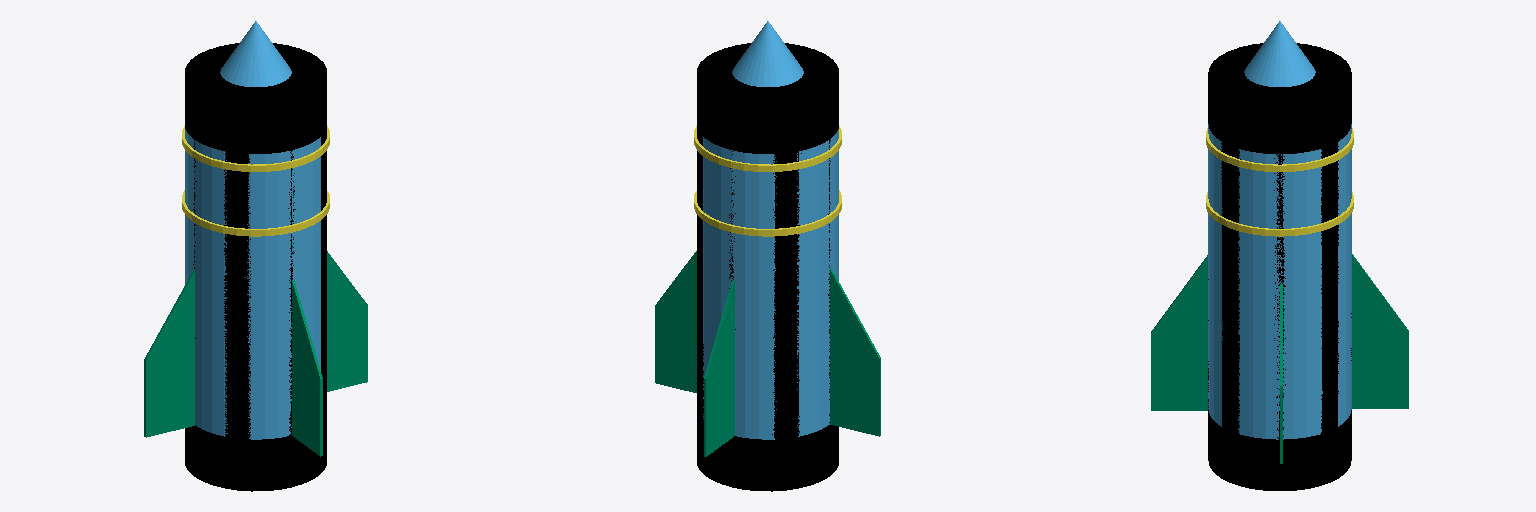
URDF robot description (rocket):
<?xml version="1.0"?>
<robot name="rocket">

  <material name="blue">
    <color rgba="0.175 0.277 0.906 1"/>
  </material>

  <link name="base_link">
    <inertial>
      <origin xyz="0 0 0" rpy="0 0 0"/>
      <mass value="20"/>
      <inertia ixx="16.25" ixy="0" ixz="0" iyy="16.25" iyz="0" izz="2.5"/>
    </inertial>

    <collision>
      <origin xyz="0 0 0" rpy="0 0 0"/>
      <geometry>
        <cylinder radius="0.5" length="3.0"/>
      </geometry>
    </collision>

    <visual>
      <origin xyz="0 0 0" rpy="0 0 0"/>
      <geometry>
        <cylinder radius="0.5" length="3.0"/>
      </geometry>
      <material name="invisible">
        <color rgba="0 0 0 0"/>
      </material>
    </visual>
  </link>

  <!-- Main Body -->
  <link name="main_body_visual">
    <inertial>
      <mass value="0.0001"/>
      <inertia ixx="0.000001" ixy="0" ixz="0" iyy="0.000001" iyz="0" izz="0.000001"/>
    </inertial>
    <visual>
      <origin xyz="0 0 0" rpy="0 0 0"/>
      <geometry>
        <mesh filename="rocket_main_body.obj" scale="1 1 1"/>
      </geometry>
    </visual>
  </link>

  <joint name="main_body_visual_joint" type="fixed">
    <origin xyz="0.0 0.0 0.0" rpy="0.0 0.0 0.0"/>
    <parent link="base_link"/>
    <child link="main_body_visual"/>
  </joint>

  <!-- Fins -->
  <link name="fins_visual">
    <inertial>
      <mass value="0.0001"/>
      <inertia ixx="0.000001" ixy="0" ixz="0" iyy="0.000001" iyz="0" izz="0.000001"/>
    </inertial>
    <visual>
      <origin xyz="0 0 0" rpy="0 0 0"/>
      <geometry>
        <mesh filename="rocket_fins.obj" scale="1 1 1"/>
      </geometry>
    </visual>
  </link>

  <joint name="fins_visual_joint" type="fixed">
    <origin xyz="0.0 0.0 0.0" rpy="0.0 0.0 0.0"/>
    <parent link="base_link"/>
    <child link="fins_visual"/>
  </joint>

  <!-- Nozzle -->
  <link name="nozzle_visual">
    <inertial>
      <mass value="0.0001"/>
      <inertia ixx="0.000001" ixy="0" ixz="0" iyy="0.000001" iyz="0" izz="0.000001"/>
    </inertial>
    <visual>
      <origin xyz="0 0 0" rpy="0 0 0"/>
      <geometry>
        <mesh filename="rocket_nozzle.obj" scale="1 1 1"/>
      </geometry>
    </visual>
  </link>

  <joint name="nozzle_visual_joint" type="fixed">
    <origin xyz="0.0 0.0 0.0" rpy="0.0 0.0 0.0"/>
    <parent link="base_link"/>
    <child link="nozzle_visual"/>
  </joint>

  <!-- Thrust Link -->
  <link name="thrust_link">
    <inertial>
      <origin xyz="0.0 0.0 0.0" rpy="0.0 0.0 0.0"/>
      <mass value="0.0001"/>
      <inertia ixx="0.000001" ixy="0" ixz="0" iyy="0.000001" iyz="0" izz="0.000001"/>
    </inertial>
  </link>

  <joint name="thrust_joint" type="fixed">
    <origin xyz="0.0 0.0 -1.5" rpy="0.0 0.0 0.0"/>
    <parent link="base_link"/>
    <child link="thrust_link"/>
    <axis xyz="0.0 0.0 0.0"/>
    <limit lower="0.0" upper="0.0" effort="0.0" velocity="0.0"/>
  </joint>

  <!-- IMU Link -->
  <link name="imu_link">
    <inertial>
      <mass value="0.0001"/>
      <inertia ixx="0.000001" ixy="0" ixz="0" iyy="0.000001" iyz="0" izz="0.000001"/>
    </inertial>
  </link>

  <joint name="imu_joint" type="fixed">
    <origin xyz="0.0 0.0 0.0" rpy="0.0 0.0 0.0"/>
    <parent link="base_link"/>
    <child link="imu_link"/>
  </joint>

</robot>

--- Render facts (derived) ---
The picture shows the robot from 3 angles, left to right: view 1: azimuth 30°, elevation 25°; view 2: azimuth 150°, elevation 25°; view 3: azimuth 270°, elevation 25°; orthographic projection.
Model rocket with 6 links and 5 joints (5 fixed), rooted at base_link, posed all joints at 0.
Links seen in each view (by area): view 1: main_body_visual, base_link, fins_visual, nozzle_visual; view 2: main_body_visual, base_link, fins_visual, nozzle_visual; view 3: main_body_visual, base_link, fins_visual, nozzle_visual.
Boxes of the visible links, x1,y1,x2,y2 form: main_body_visual: [185, 21, 320, 439]; base_link: [185, 43, 326, 491]; fins_visual: [144, 251, 367, 456]; nozzle_visual: [182, 126, 329, 236]; main_body_visual: [703, 21, 838, 439]; base_link: [697, 43, 838, 491]; fins_visual: [655, 251, 880, 456]; nozzle_visual: [694, 126, 841, 236]; main_body_visual: [1208, 21, 1351, 439]; base_link: [1208, 43, 1351, 490]; fins_visual: [1151, 254, 1408, 463]; nozzle_visual: [1206, 128, 1353, 236].
Bounding box of the posed robot: 1.8 × 1.8 × 3.4 m (x, y, z).
Meshes: 3 distinct files referenced, 3 mesh visuals loaded (3 OBJ).
